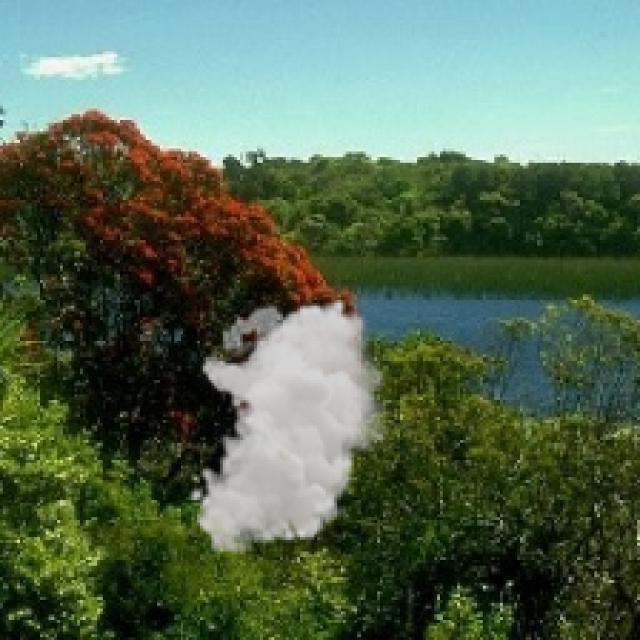Smoke: (188, 297, 394, 554)
